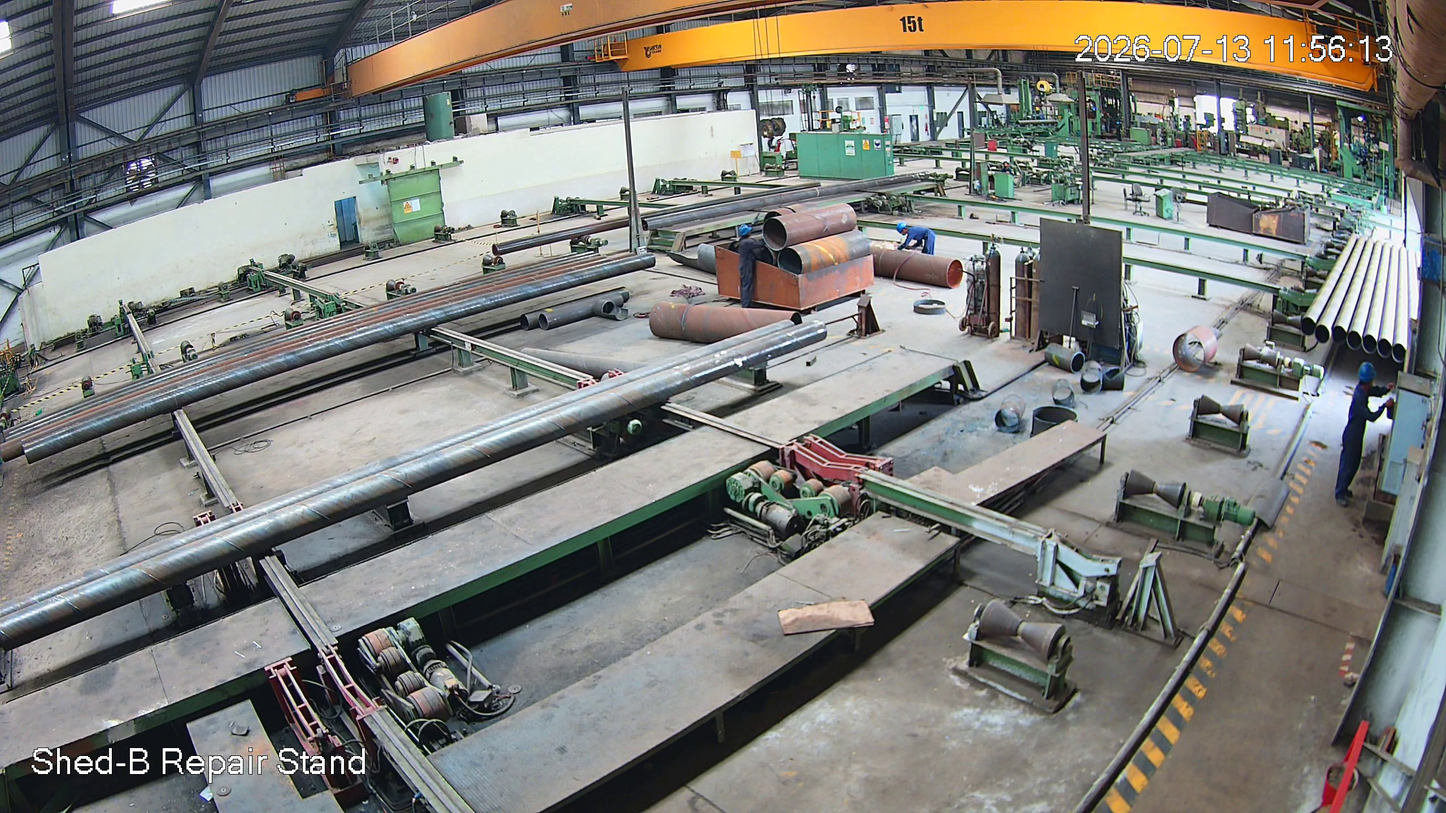Helmet: (1354, 362, 1384, 388)
Person: (1332, 363, 1382, 519)
